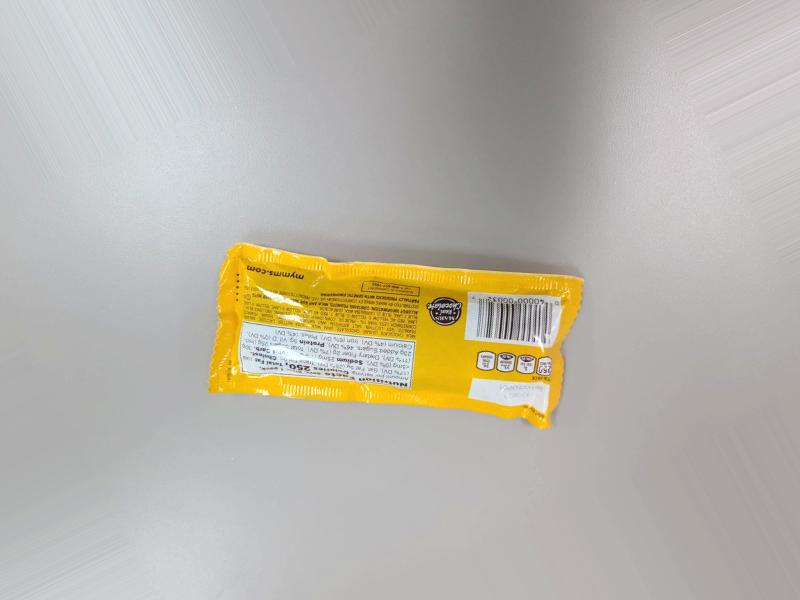m&m: (193, 233, 641, 413)
